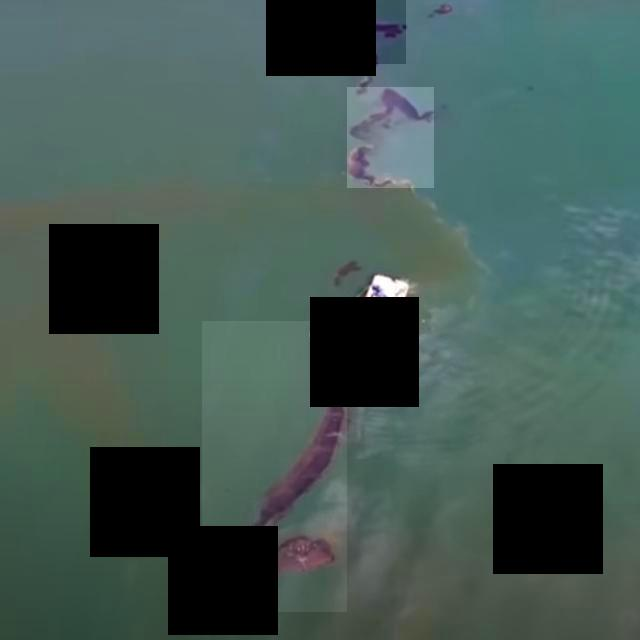oil spill: (203, 321, 347, 612), (347, 87, 434, 188), (306, 0, 406, 64), (357, 73, 372, 93)
